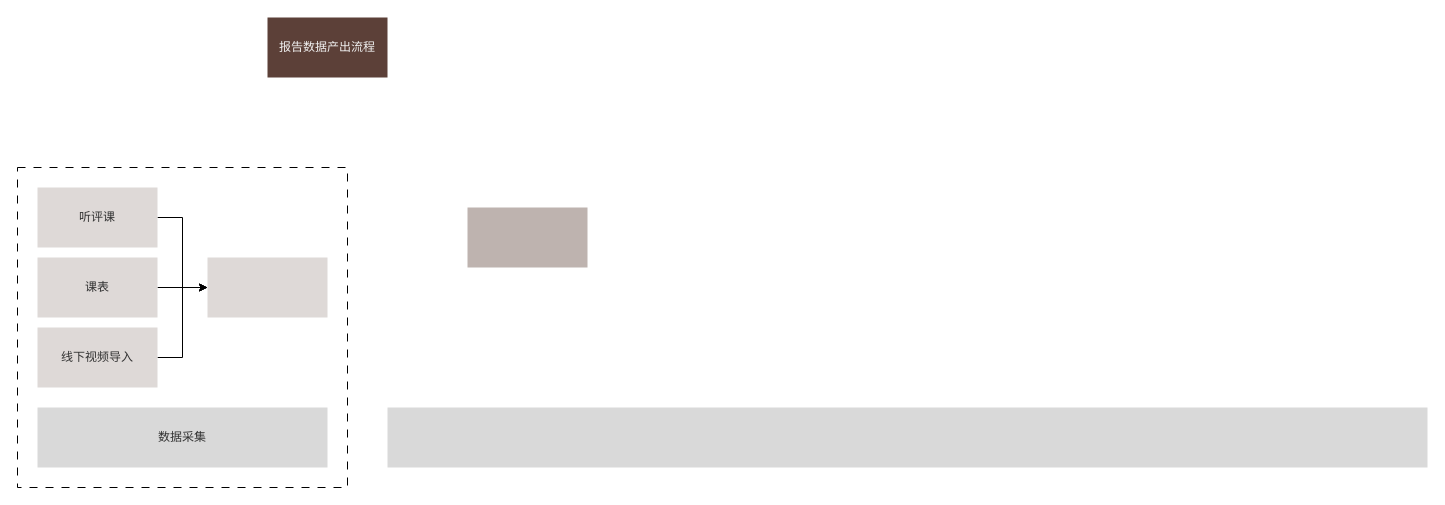
Some shapes in this 1445 by 505 pixel diagram are drawn without their labels. The box of each missing label's shape, as (x1, y1, x2, y2) in pixels:
数据分析: (387, 407, 1427, 467)
视频切片上传: (207, 257, 327, 317)
